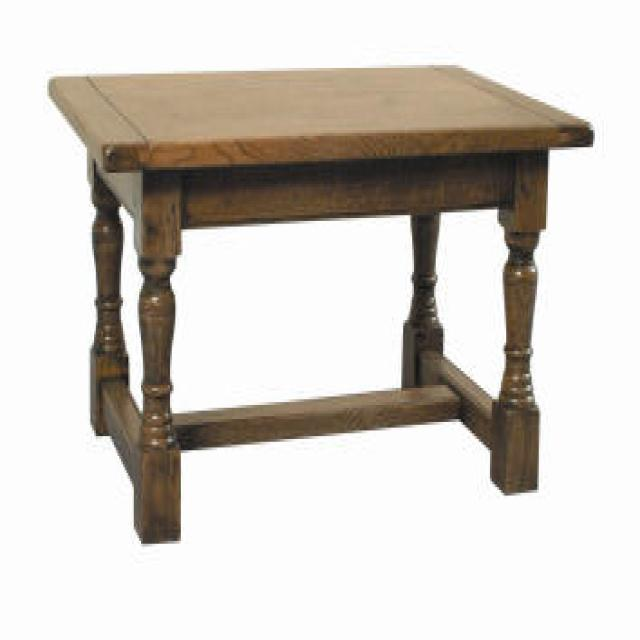table: (47, 63, 594, 547)
